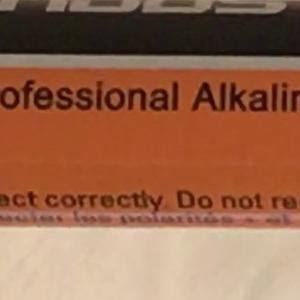ALK: (181, 71, 237, 122)
